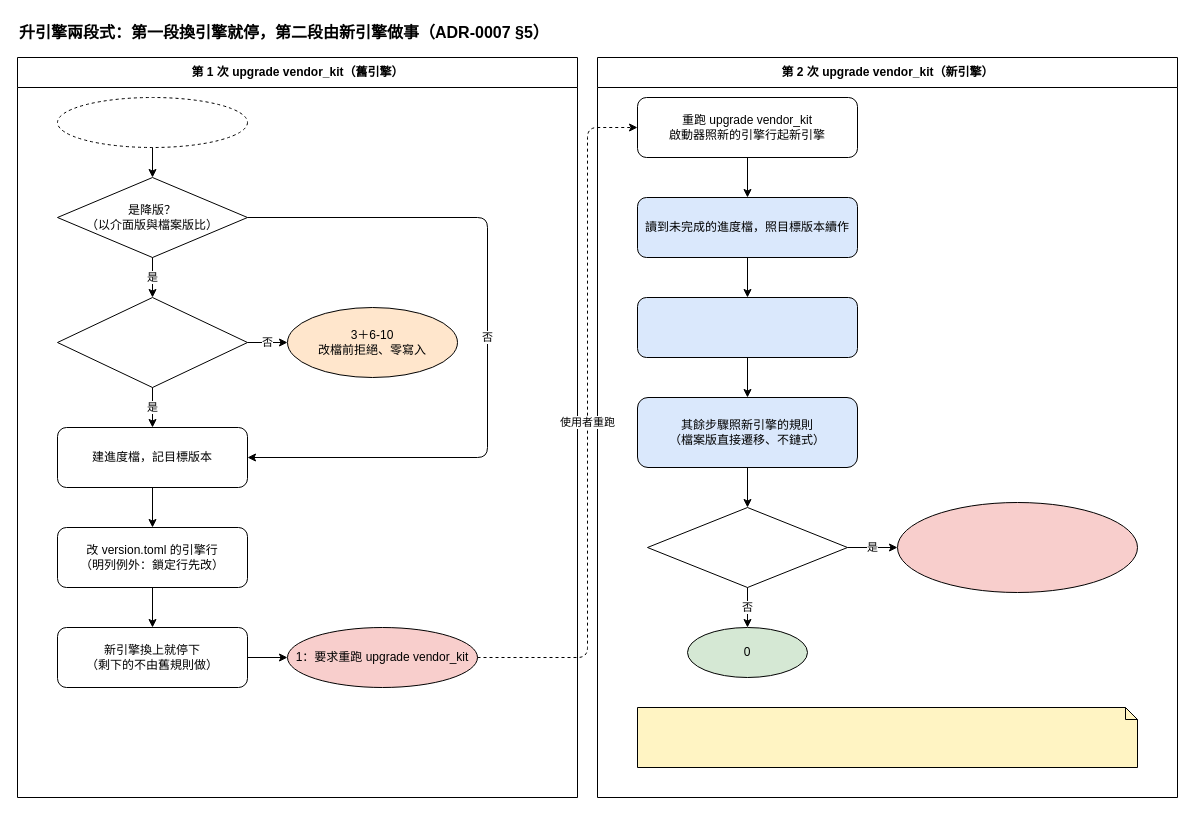
Image size: 1195x815. Some labels were removed from this diagram. The centre of each missing label's shape, as x and y in pixels:
"1：鎖定行已是新版，進度檔還記著目標版本；重跑續作" goes at [1017,547].
"upgrade vendor_kit[@<tag>]" goes at [152,122].
"中途失敗？" goes at [747,547].
"目標引擎能無損讀現有檔？" goes at [152,342].
"相關限制：dev vendor_kit -i 指到比薄殼舊的引擎時可以跑，但不准用它重產進 git 的薄殼" goes at [887,737].
"重產薄殼（新的自描述標頭）" goes at [747,327].
